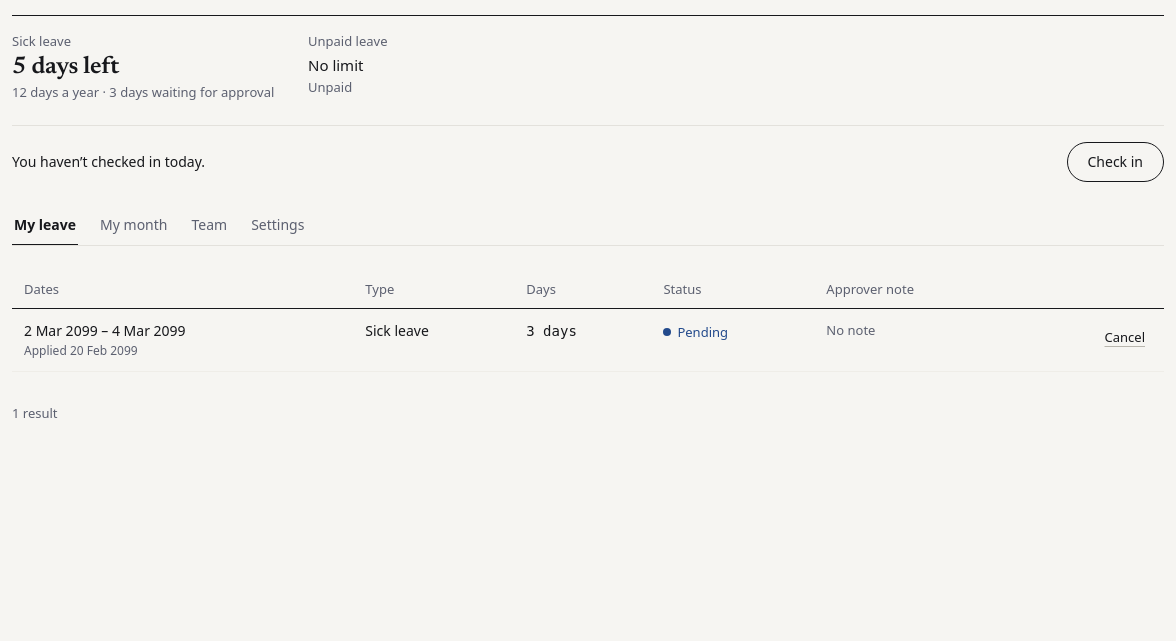
Scenario: Leave › shows the year a new holiday was added to
Press the mouse on the tab "Settings" at (278, 226), box [249,206,306,246]
(page scrolled)
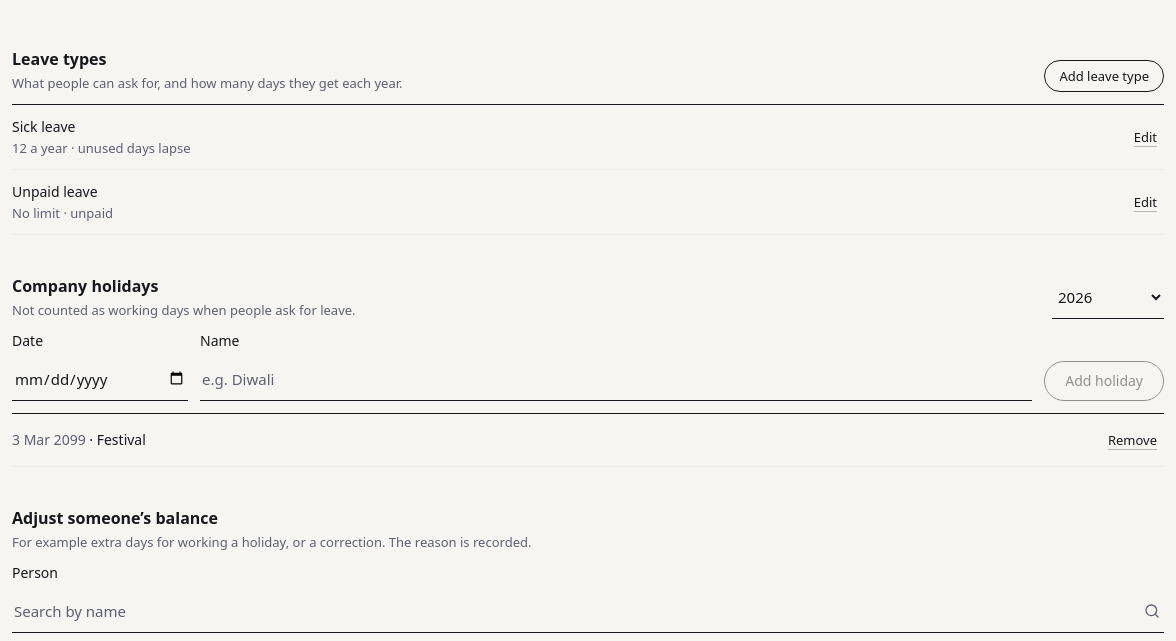
expect the heading "Company holidays" is shown: met, box [12,275,158,297]
Type "2099-01-26" into the date field labelled "Date" at (100, 379), box [12,357,188,401]
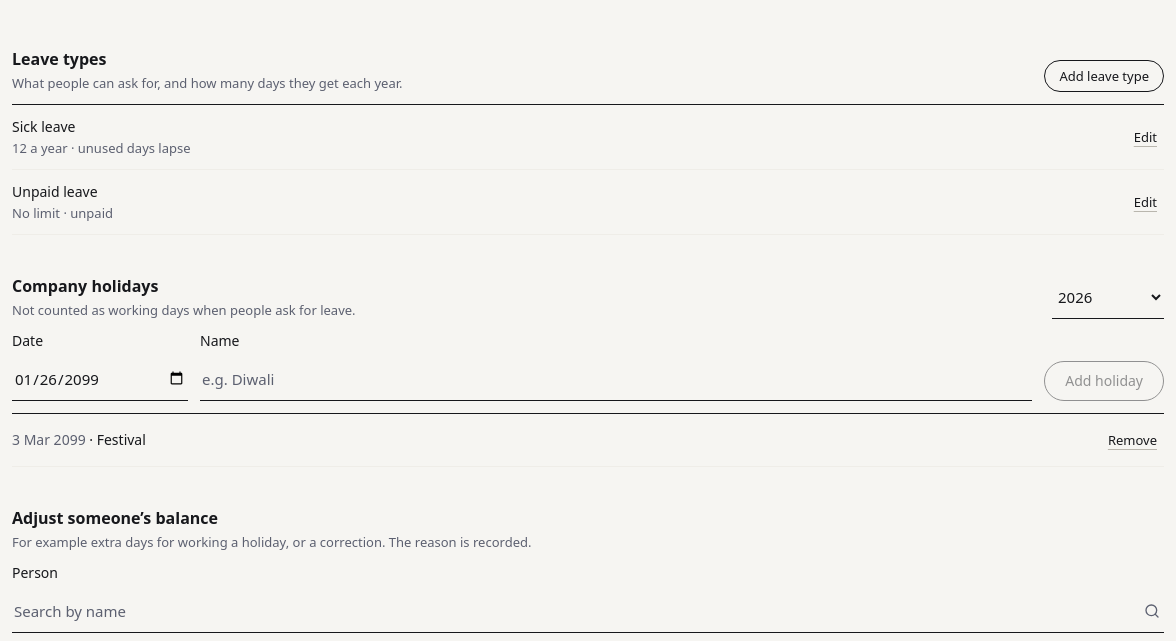
Type "Republic Day" into the field labelled "Name" at (616, 379), box [200,357,1032,401]
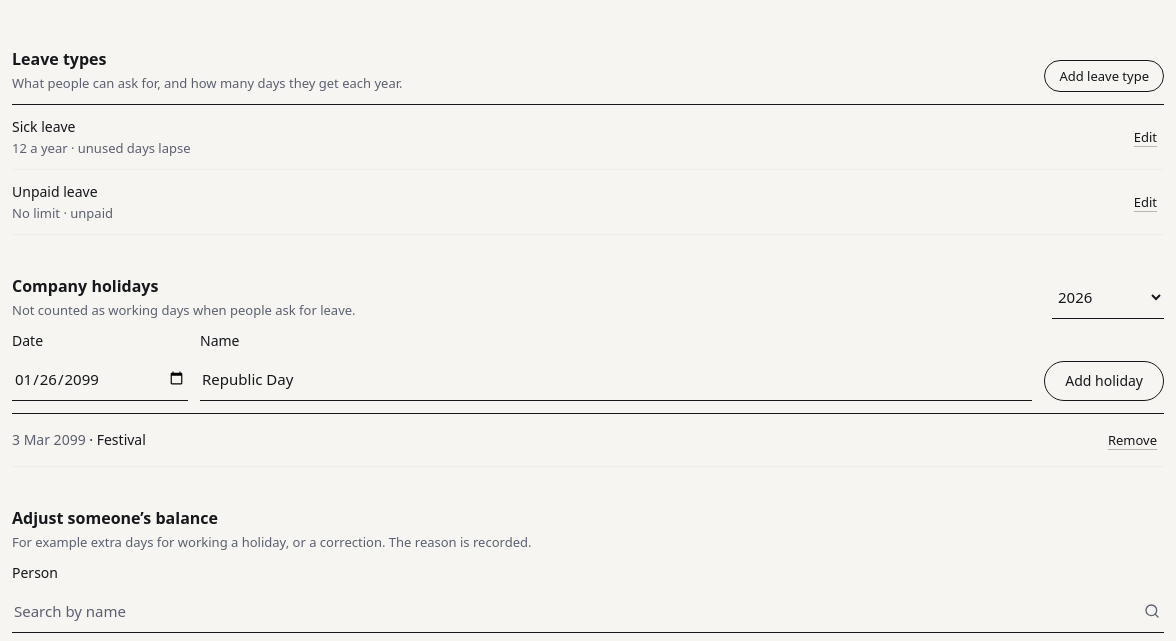
Click the button "Add holiday" at (1104, 381), box [1044,361,1164,401]
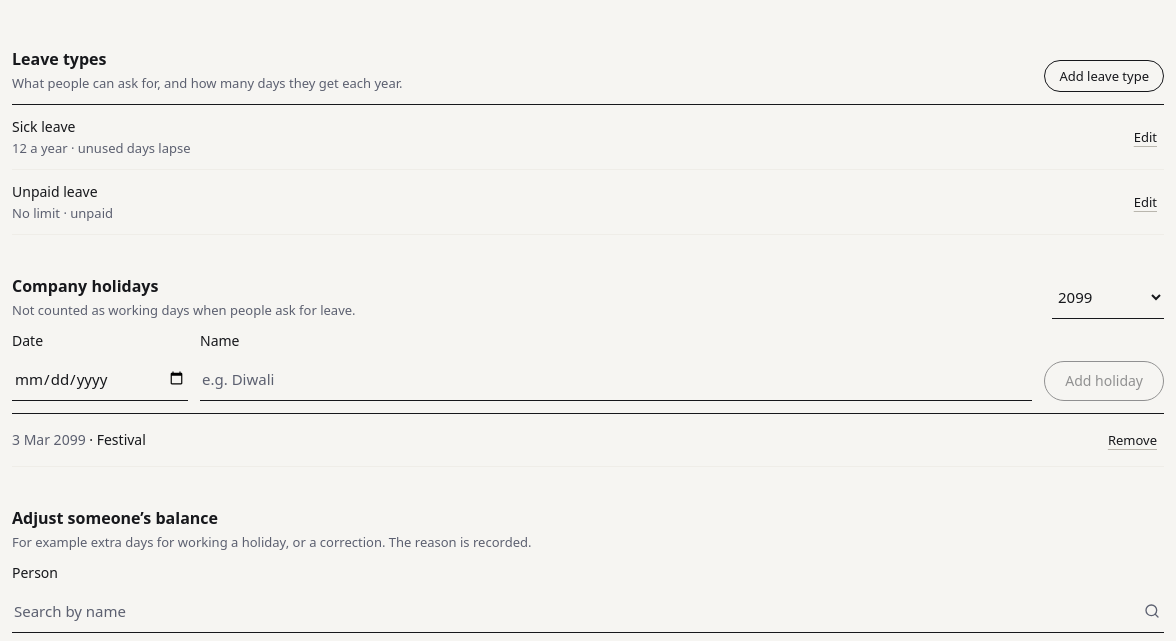
expect the dropdown labelled "Year" shows "2099": met, box [1052,275,1164,319]
